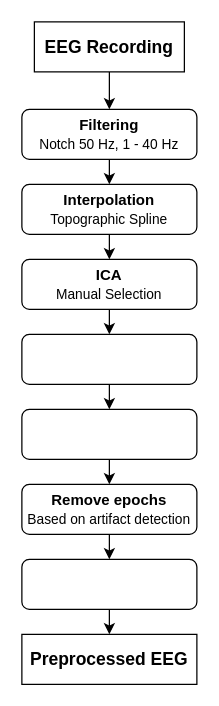
The diagram is 219 pixels wide and 706 high, and some of its shapes have lost their labels. The box of each missing label's shape, as (x1, y1, x2, y2) in pixels:
Artifact detection gradient, max-min, low act.: (21, 333, 197, 384)
Epoching 3 seconds: (21, 408, 197, 459)
Rereferencing Average Reference: (21, 558, 197, 609)
